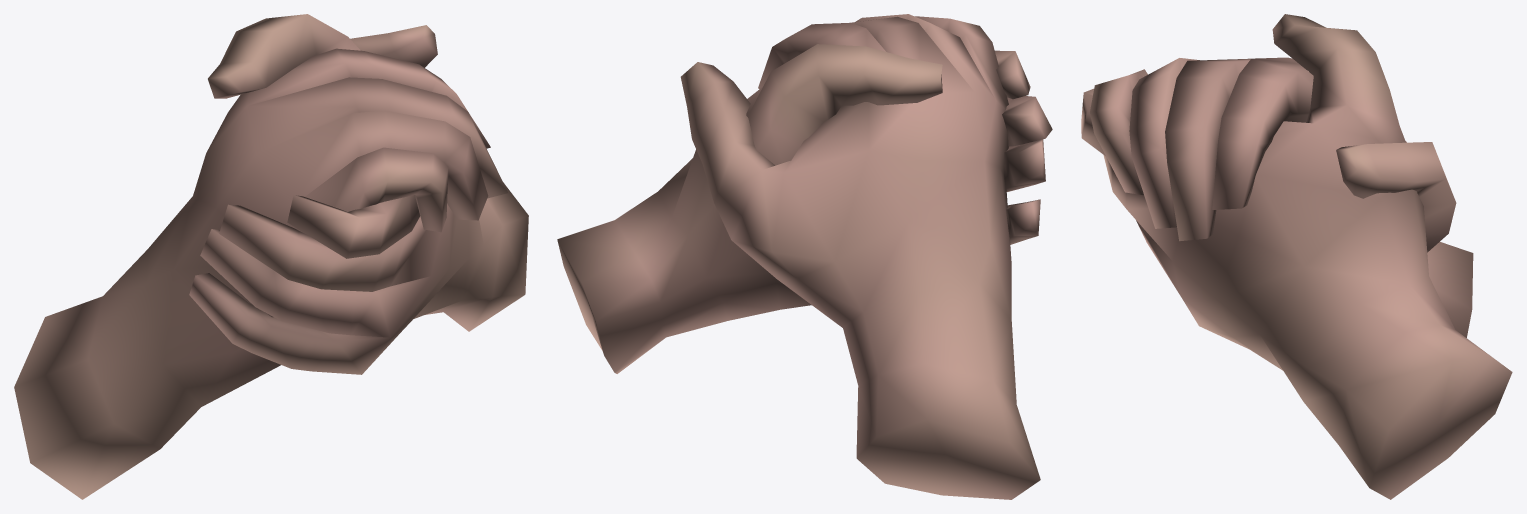
Rendered from human-household-items-hands_v3.glb.
The picture shows the model from 3 angles, left to right: view 1: azimuth 30°, elevation 25°; view 2: azimuth 150°, elevation 25°; view 3: azimuth 270°, elevation 25°; orthographic projection. The views are drawn at different scales.
Visible parts, largest first — view 1: Hands_v3; view 2: Hands_v3; view 3: Hands_v3.
Boxes of the visible parts, bbox=[...] form: Hands_v3: bbox=[14, 14, 528, 499]; Hands_v3: bbox=[557, 14, 1052, 499]; Hands_v3: bbox=[1081, 14, 1512, 499].
Size of the model in its own units: 0.2 by 0.1647 by 0.1553.
